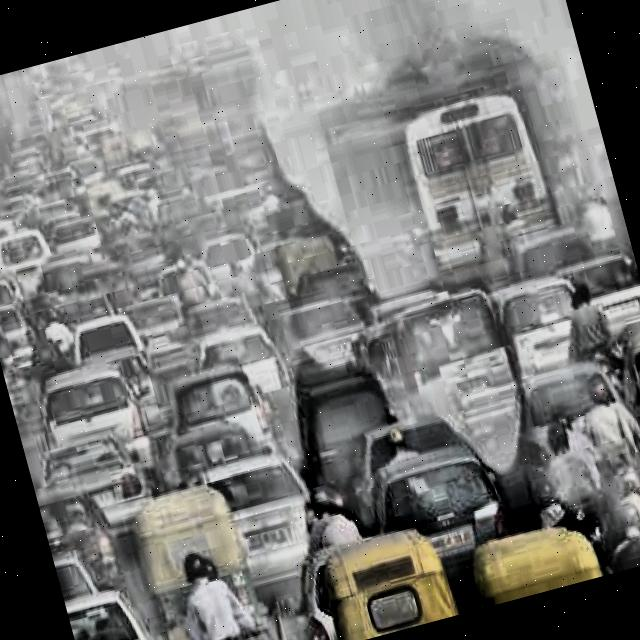license_plate: (242, 524, 294, 558), (426, 520, 475, 554)
